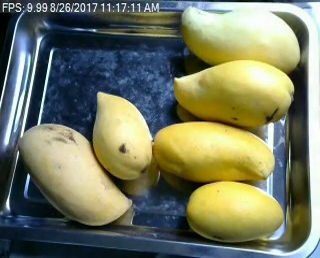Mango: (16, 122, 131, 225), (173, 58, 293, 126), (180, 5, 299, 73), (154, 120, 274, 181), (185, 179, 282, 244), (92, 91, 151, 181)
